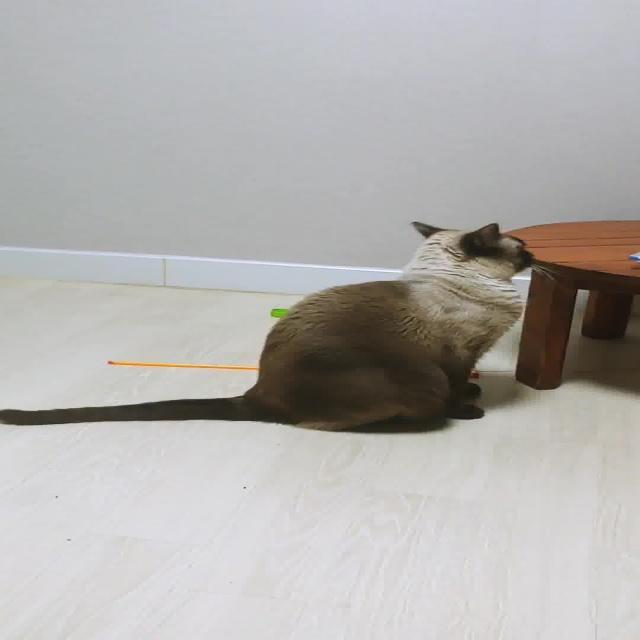cat: (0, 212, 552, 440)
